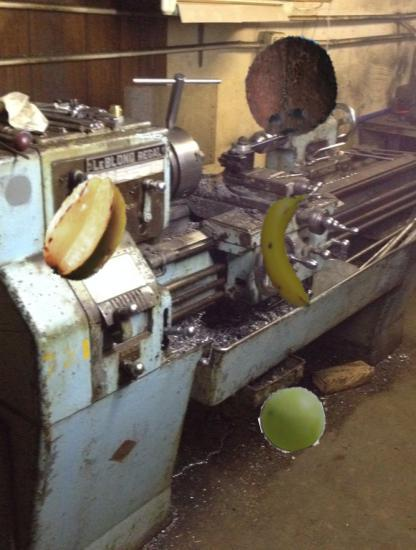Banana: (232, 194, 350, 312)
Carambula: (32, 175, 142, 285)
Cocos: (240, 35, 345, 140)
Grape: (259, 386, 326, 453)
